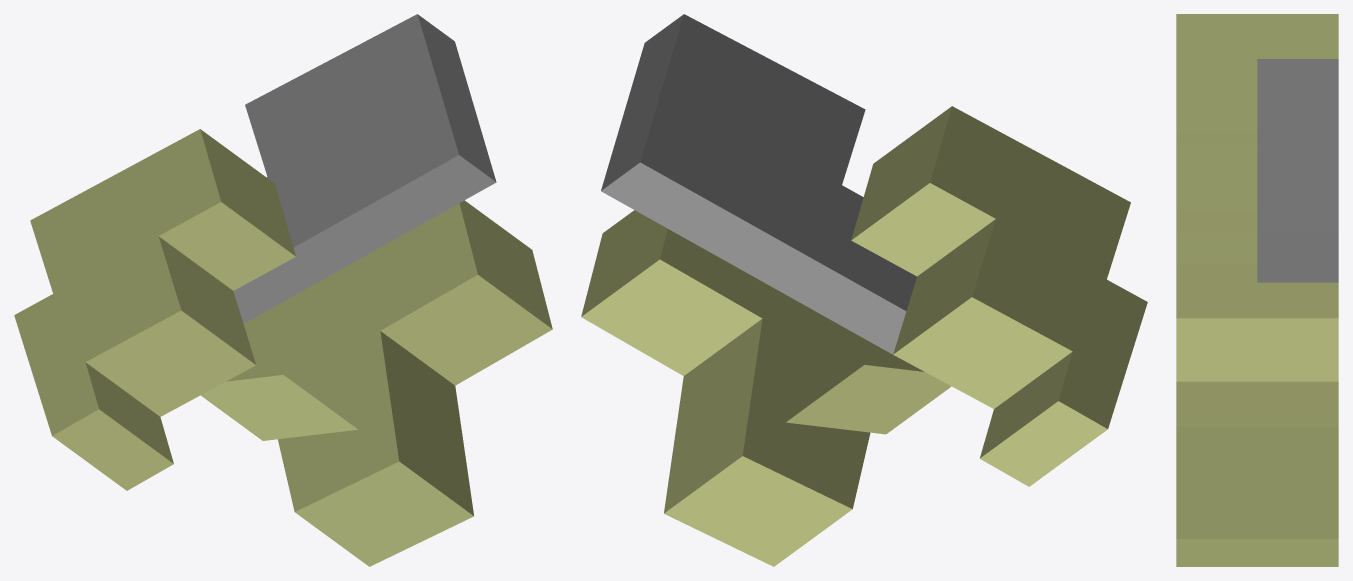
3 renders of one model, left to right at view 1: azimuth 30°, elevation 25°; view 2: azimuth 150°, elevation 25°; view 3: azimuth 270°, elevation 25°, orthographic. The views are drawn at different scales.
Parts seen in each view (by area): view 1: 0_1_0_0_1_0_1_3_2_1; view 2: 0_1_0_0_1_0_1_3_2_1; view 3: 0_1_0_0_1_0_1_3_2_1.
Part boxes in pixels (box(x1,y1,x2,y2)): 0_1_0_0_1_0_1_3_2_1: box(14, 14, 552, 566); 0_1_0_0_1_0_1_3_2_1: box(581, 14, 1147, 566); 0_1_0_0_1_0_1_3_2_1: box(1176, 14, 1338, 566).
Bounding box in the file's own units: 21.44 × 20.68 × 6.
